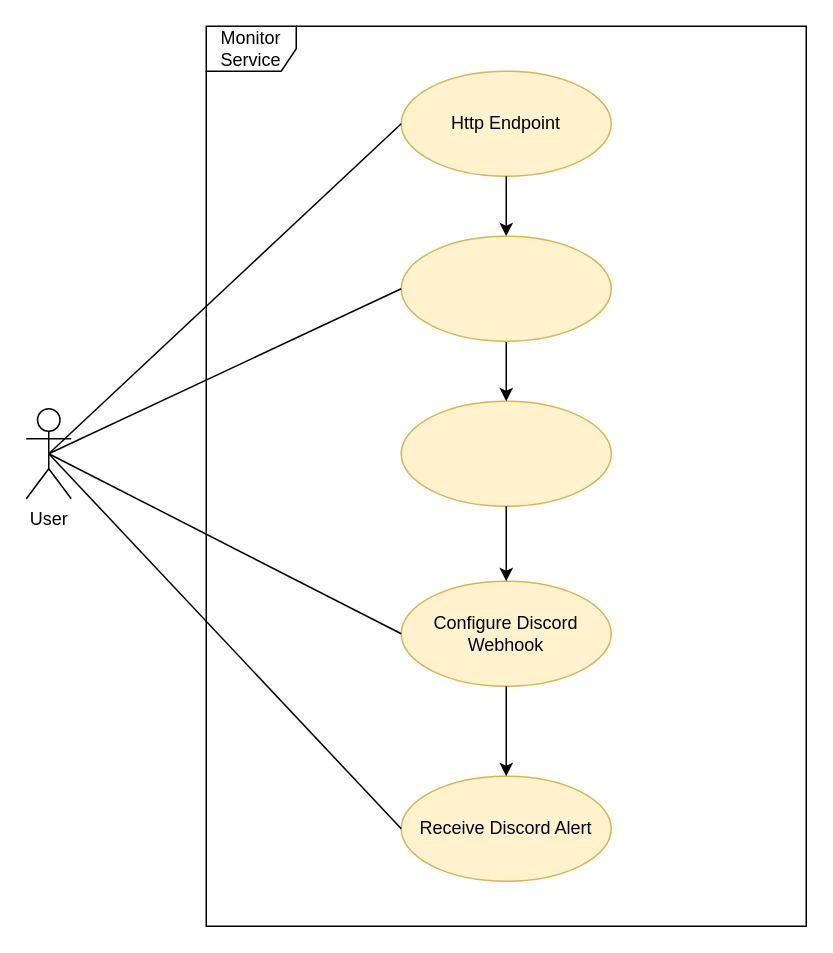
The diagram is 833 pixels wide and 953 high, and some of its shapes have lost their labels. The shapes that lost their labels are listed below. From the top down, each one's box as (x1, y1, x2, y2) in pixels, then its label:
(400, 235, 611, 341): Configure Scrape Interval
(400, 400, 611, 506): Scrape Logs
